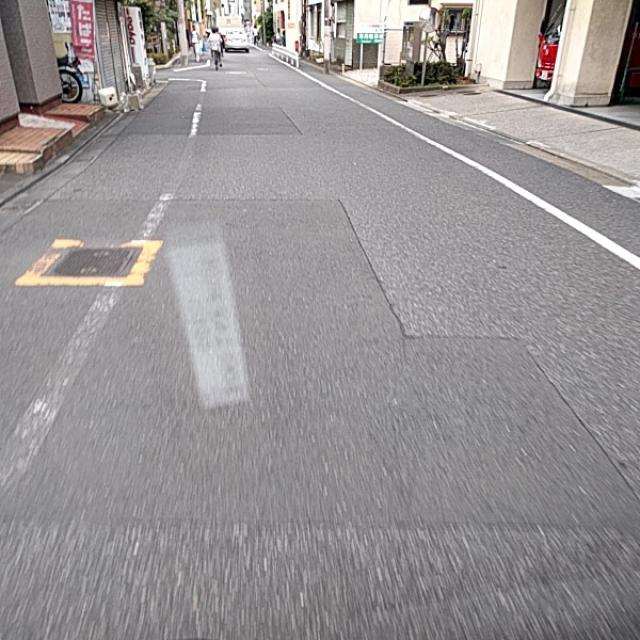pothole: (362, 227, 396, 318)
